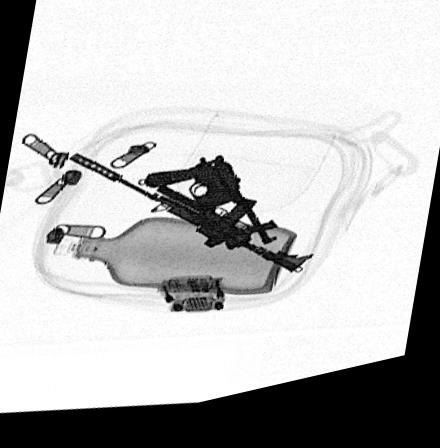Gun: (66, 155, 314, 285), (142, 164, 277, 256)
